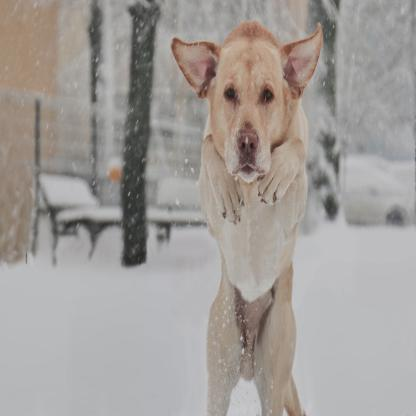Labarador Retriever: (172, 23, 323, 416)
